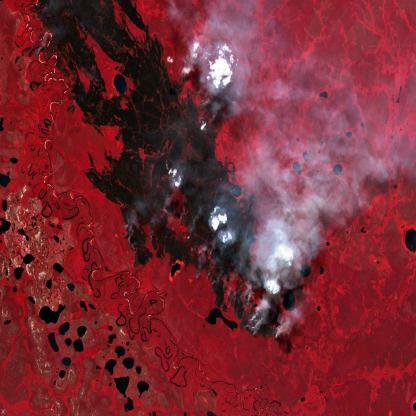fire: (35, 0, 284, 345)
